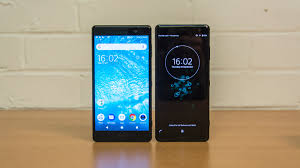sony: (91, 22, 154, 143), (153, 23, 213, 143)
